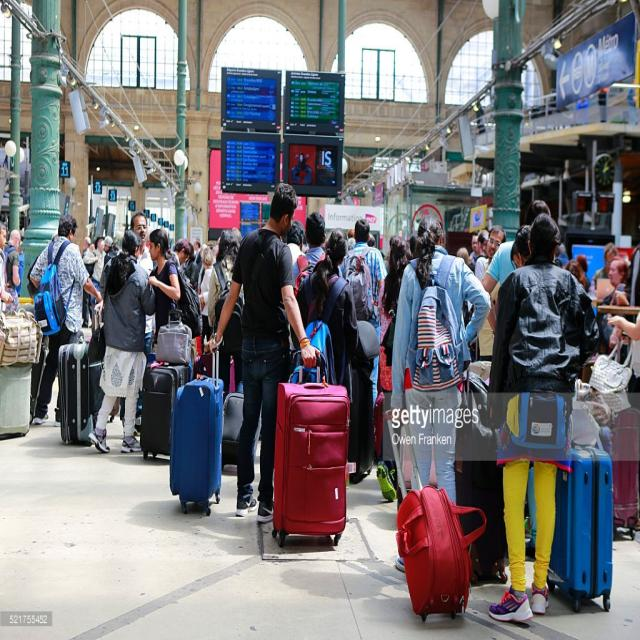body: (486, 209, 600, 625), (210, 180, 322, 526), (390, 218, 492, 574), (86, 228, 158, 454), (28, 213, 99, 420), (290, 229, 362, 387), (375, 235, 415, 503), (480, 198, 552, 338), (340, 219, 389, 410), (207, 227, 244, 407), (147, 227, 203, 344), (473, 223, 508, 364), (291, 210, 343, 294), (474, 226, 500, 362), (595, 262, 632, 354), (286, 218, 306, 374), (196, 246, 221, 356), (82, 236, 108, 334), (129, 212, 155, 278), (2, 228, 21, 316), (80, 236, 97, 330), (601, 255, 631, 306), (593, 241, 619, 291), (0, 220, 13, 308), (629, 223, 640, 322), (564, 258, 590, 292), (368, 217, 392, 253), (182, 243, 199, 293), (514, 222, 532, 268), (170, 238, 192, 272), (14, 240, 26, 298), (101, 236, 121, 270), (474, 231, 487, 282), (342, 226, 357, 248), (192, 237, 202, 266), (456, 245, 469, 263)
